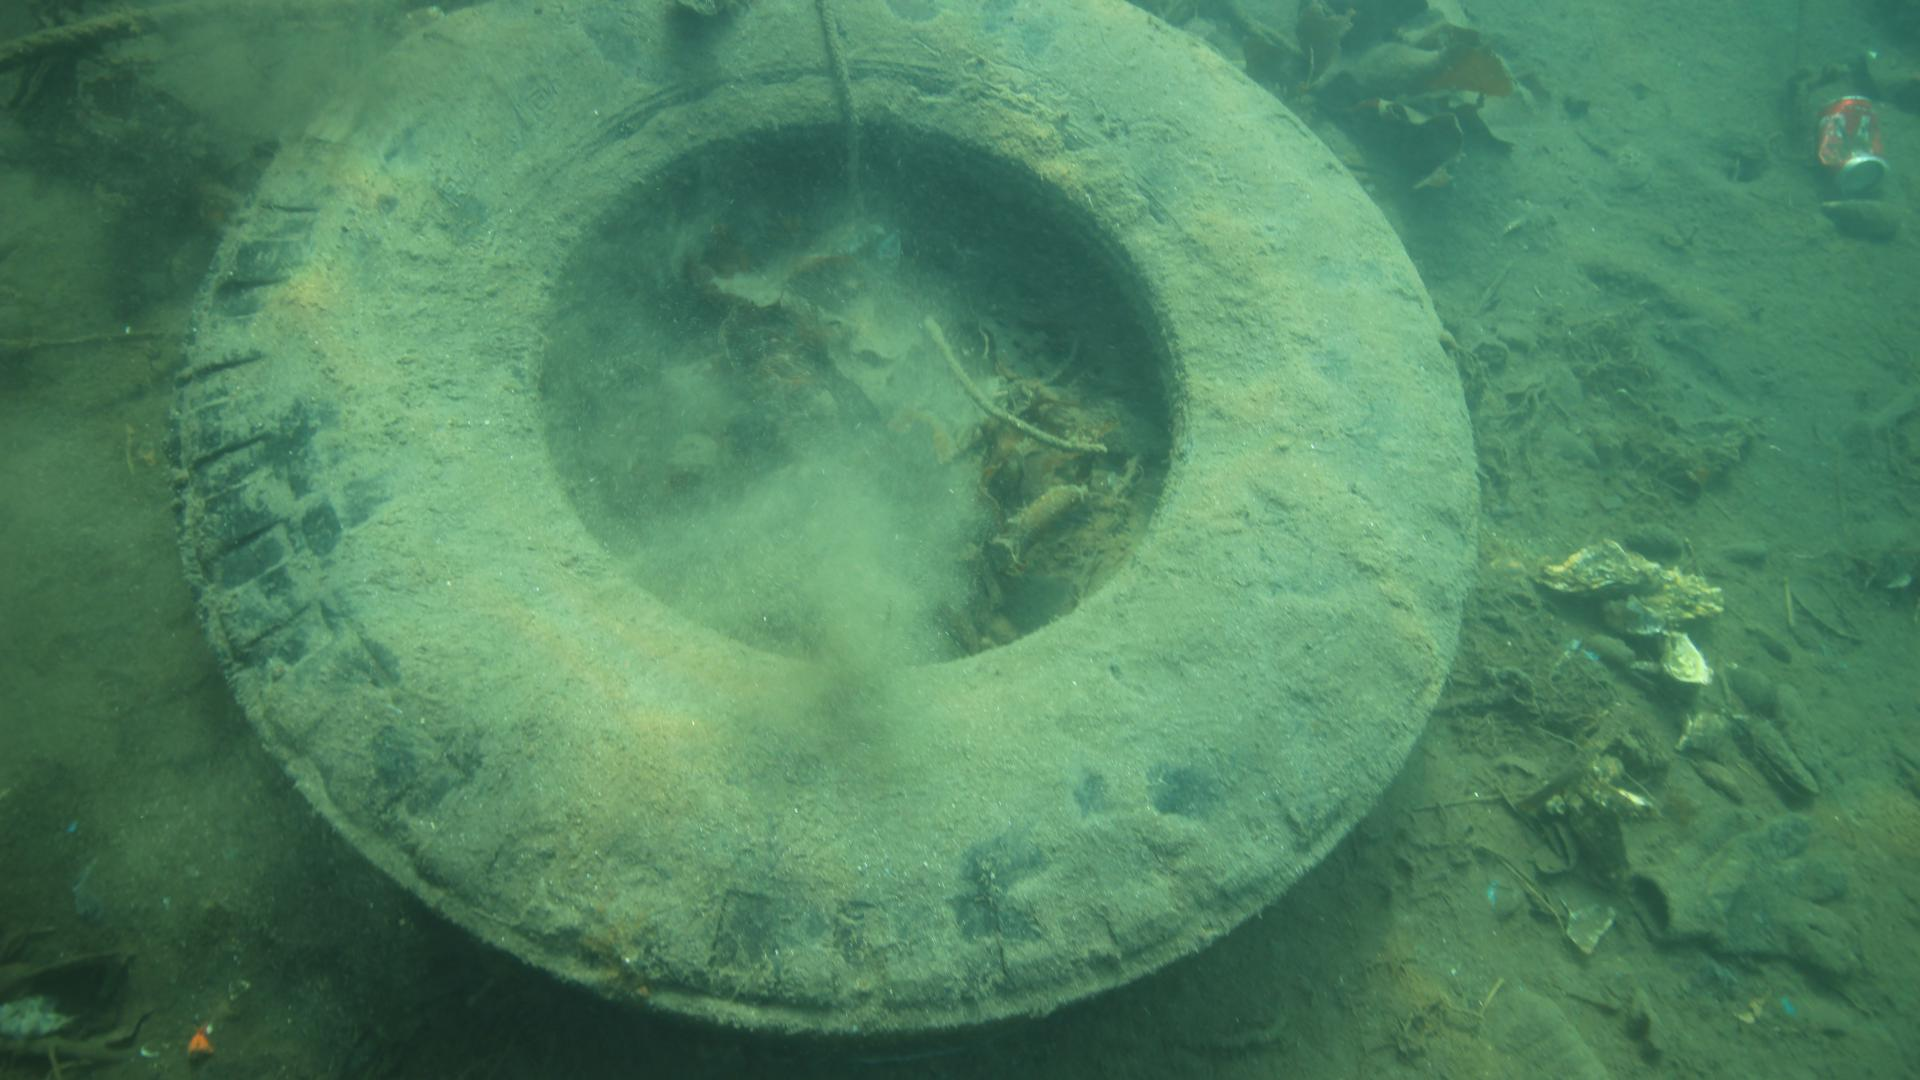rope: (0, 4, 171, 61)
tire: (171, 0, 1478, 1029)
